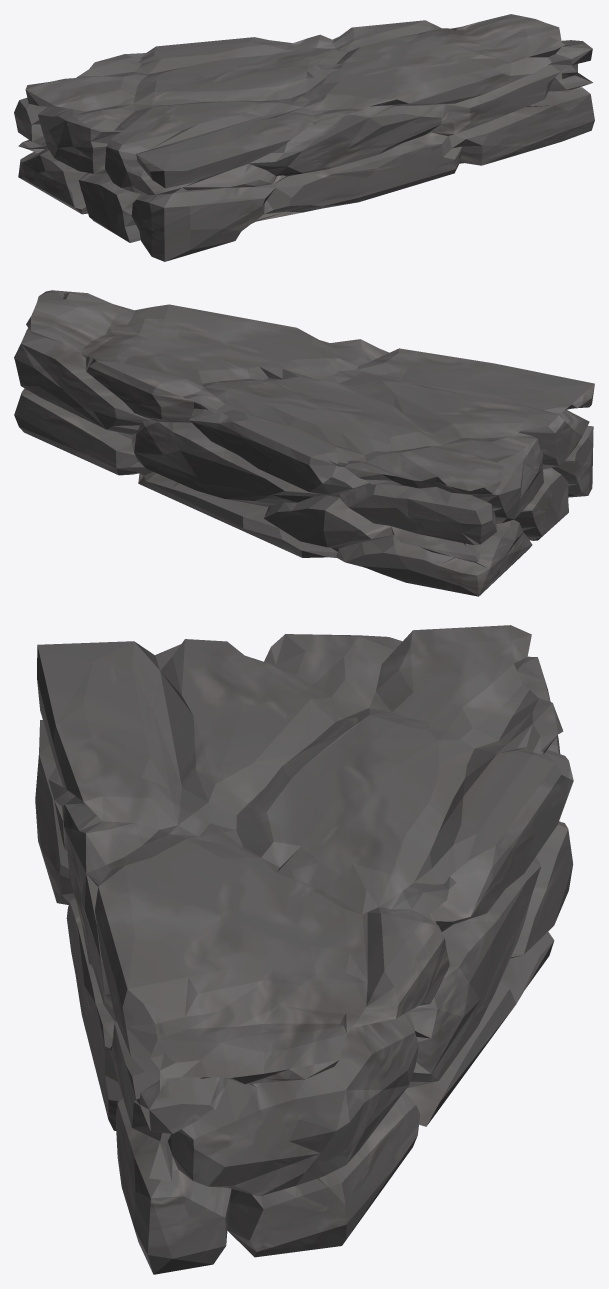
The model's file is MOD_SolidRock.fbx.
3 renders of one model, top to bottom at view 1: azimuth 30°, elevation 25°; view 2: azimuth 150°, elevation 25°; view 3: azimuth 270°, elevation 25°, orthographic. The views are drawn at different scales.
Parts seen in each view (by area): view 1: Cube14; view 2: Cube14; view 3: Cube14.
Boxes of the visible parts, x1=… form: Cube14: x1=14, y1=14, x2=594, y2=261; Cube14: x1=14, y1=290, x2=594, y2=596; Cube14: x1=35, y1=625, x2=573, y2=1274.
Bounding box in the file's own units: 4.44 × 0.8362 × 2.13.
